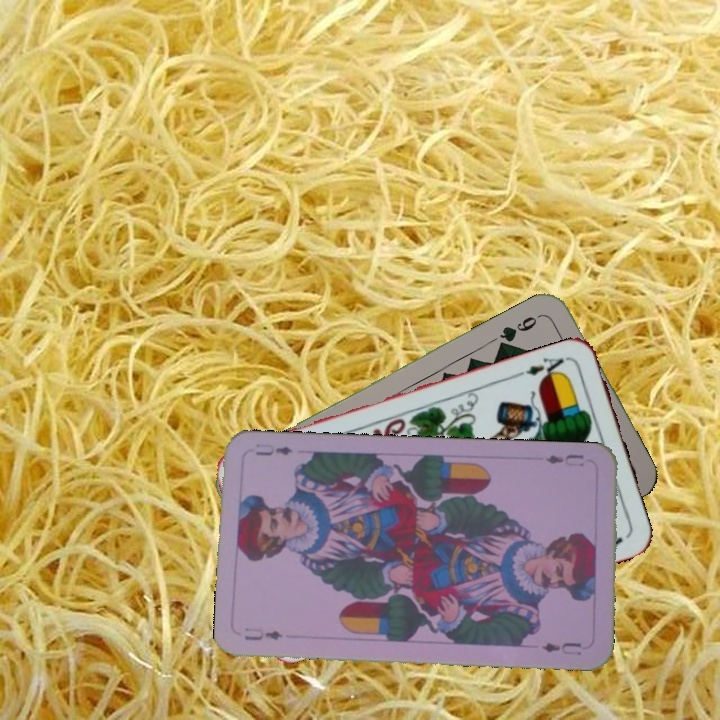EA: (513, 353, 571, 383)
EU: (240, 623, 285, 643), (541, 450, 586, 469)
G9: (495, 309, 547, 348)
